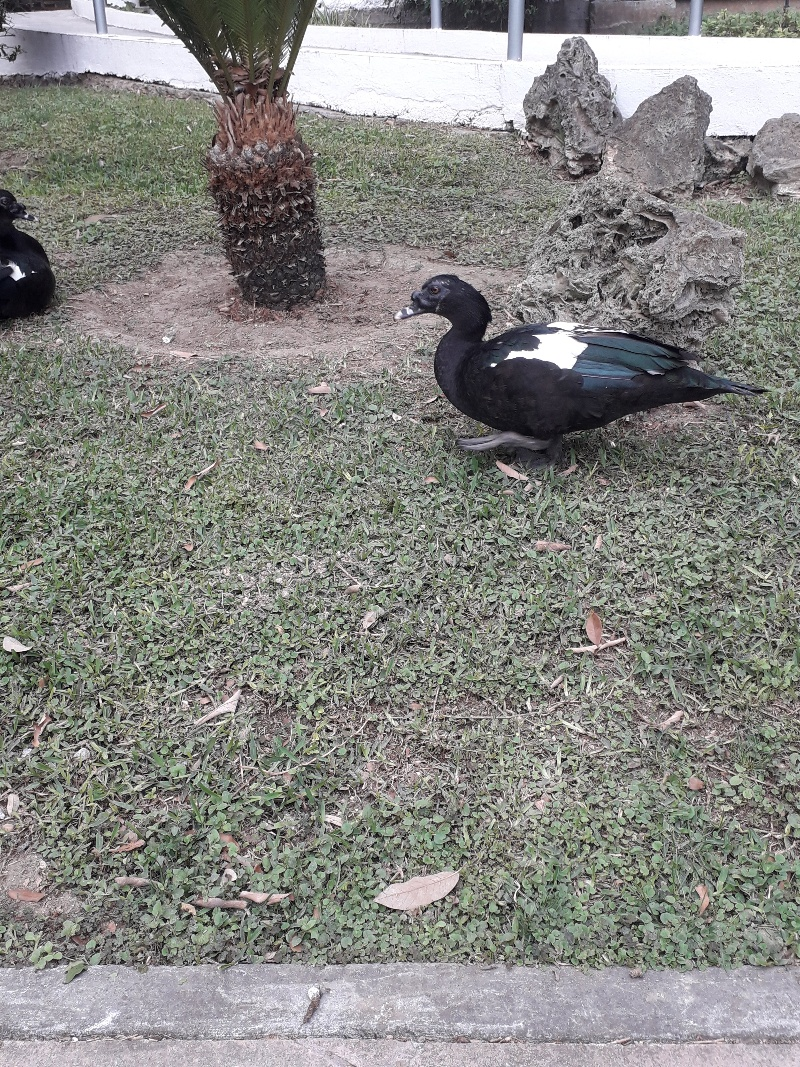pato: (403, 273, 722, 442)
